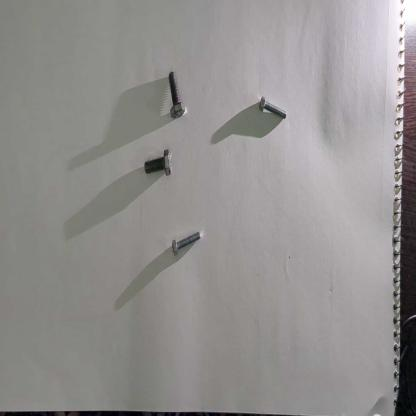Bolts: (164, 68, 190, 122), (141, 147, 175, 185), (168, 228, 203, 260), (257, 92, 289, 126)
